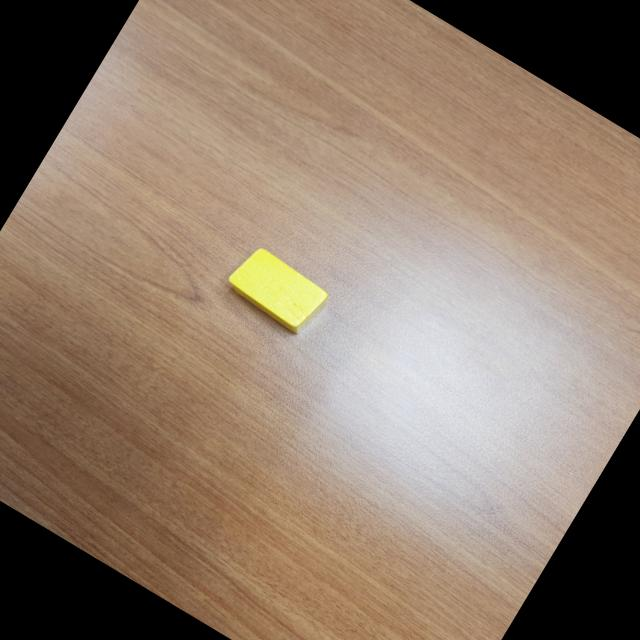yellow: (218, 240, 336, 344)
